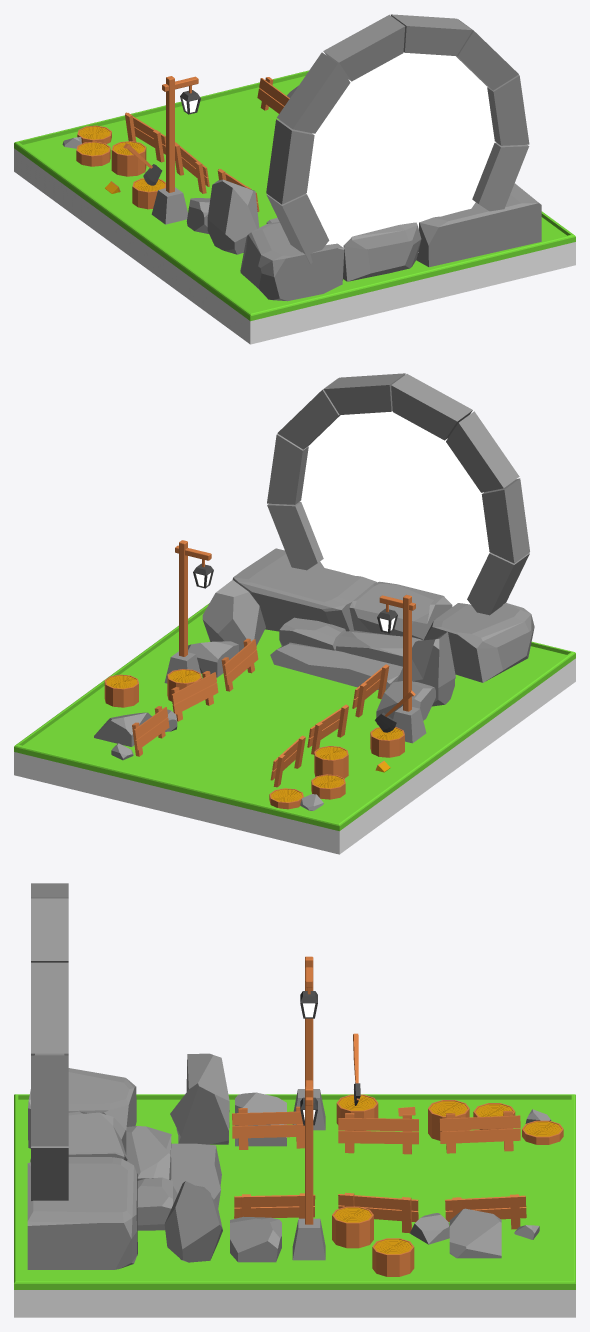
3 renders of one model, top to bottom at view 1: azimuth 30°, elevation 25°; view 2: azimuth 150°, elevation 25°; view 3: azimuth 270°, elevation 25°, orthographic. The views are drawn at different scales.
Visible parts, largest first — view 1: 柱体.014, 圆环, 立方体.029, 立方体.038, 立方体.040, 立方体.035, 立方体.022, 立方体.034, 立方体.036, 立方体.033, 立方体.030, 立方体.037 (+12 smaller); view 2: 柱体.014, 圆环, 立方体.029, 立方体.038, 立方体.028, 立方体.040, 立方体.039, 立方体.035, 立方体.034, 立方体.036, 立方体.020, 立方体.033 (+23 smaller); view 3: 柱体.014, 立方体.029, 立方体.022, 立方体.028, 立方体.020, 立方体.031, 立方体.032, 立方体.038, 立方体.033, 立方体.040, 立方体.021, 立方体.001 (+19 smaller).
Part boxes in pixels (box(x1,y1,x2,y2)): 柱体.014: box(14, 70, 575, 344); 圆环: box(306, 52, 495, 252); 立方体.029: box(416, 183, 541, 267); 立方体.038: box(240, 222, 344, 301); 立方体.040: box(343, 222, 421, 281); 立方体.035: box(277, 52, 350, 133); 立方体.022: box(207, 179, 259, 254); 立方体.034: box(323, 14, 405, 81); 立方体.036: box(266, 119, 314, 204); 立方体.033: box(391, 14, 472, 55); 立方体.030: box(472, 142, 529, 211); 立方体.037: box(266, 193, 329, 264); 柱体.014: box(14, 603, 575, 854); 圆环: box(300, 411, 489, 606); 立方体.029: box(232, 548, 376, 631); 立方体.038: box(424, 603, 534, 682); 立方体.028: box(279, 617, 422, 666); 立方体.040: box(349, 581, 452, 640); 立方体.039: box(270, 642, 402, 690); 立方体.035: box(446, 411, 519, 492); 立方体.034: box(391, 374, 472, 440); 立方体.036: box(481, 478, 529, 563); 立方体.020: box(202, 580, 265, 651); 立方体.033: box(323, 373, 405, 414); 柱体.014: box(14, 1094, 575, 1317); 立方体.029: box(27, 1157, 137, 1269); 立方体.022: box(170, 1053, 229, 1144); 立方体.028: box(126, 1126, 172, 1230); 立方体.020: box(164, 1181, 222, 1262); 立方体.031: box(31, 1055, 68, 1146); 立方体.032: box(31, 962, 68, 1053); 立方体.038: box(28, 1068, 136, 1148); 立方体.033: box(31, 898, 68, 962); 立方体.040: box(30, 1111, 127, 1162); 立方体.021: box(449, 1208, 501, 1258); 立方体.001: box(439, 1110, 520, 1153).
Bounding box in the file's own units: 14.97 × 12.02 × 18.83.
